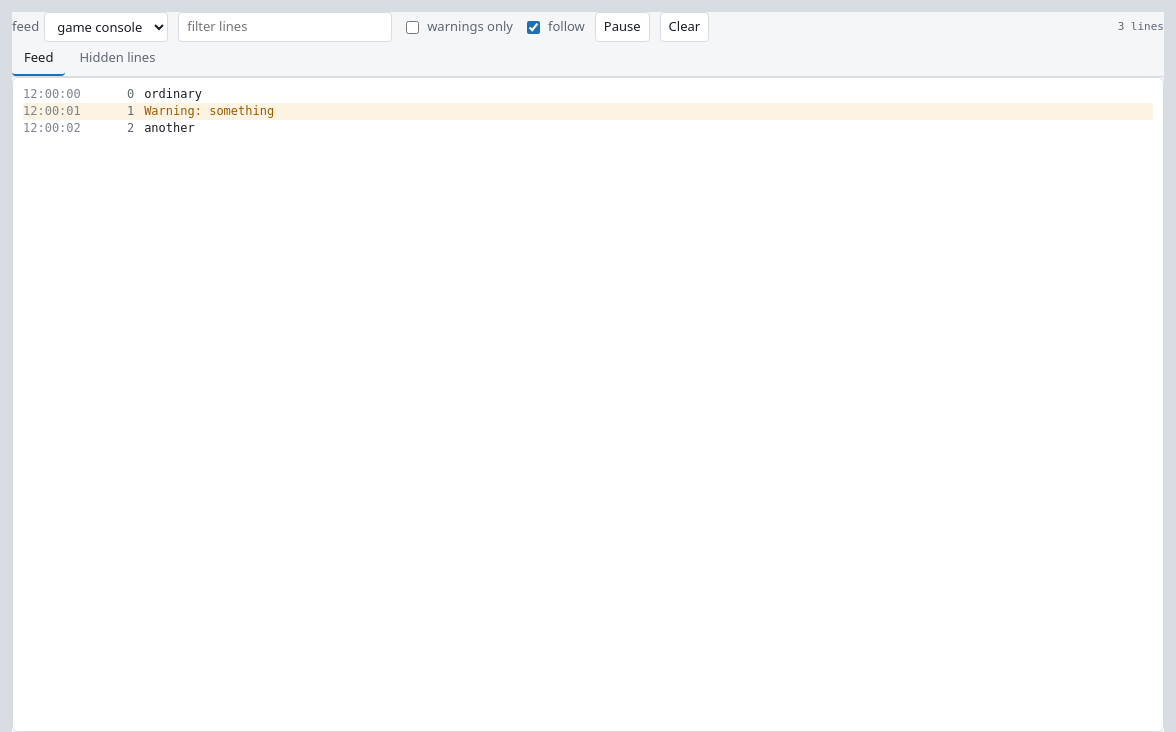
filtering › can show warnings alone
This screenshot has width=1176, height=732.
Click the checkbox labelled "warnings only": (413,27) [406,20,419,34]
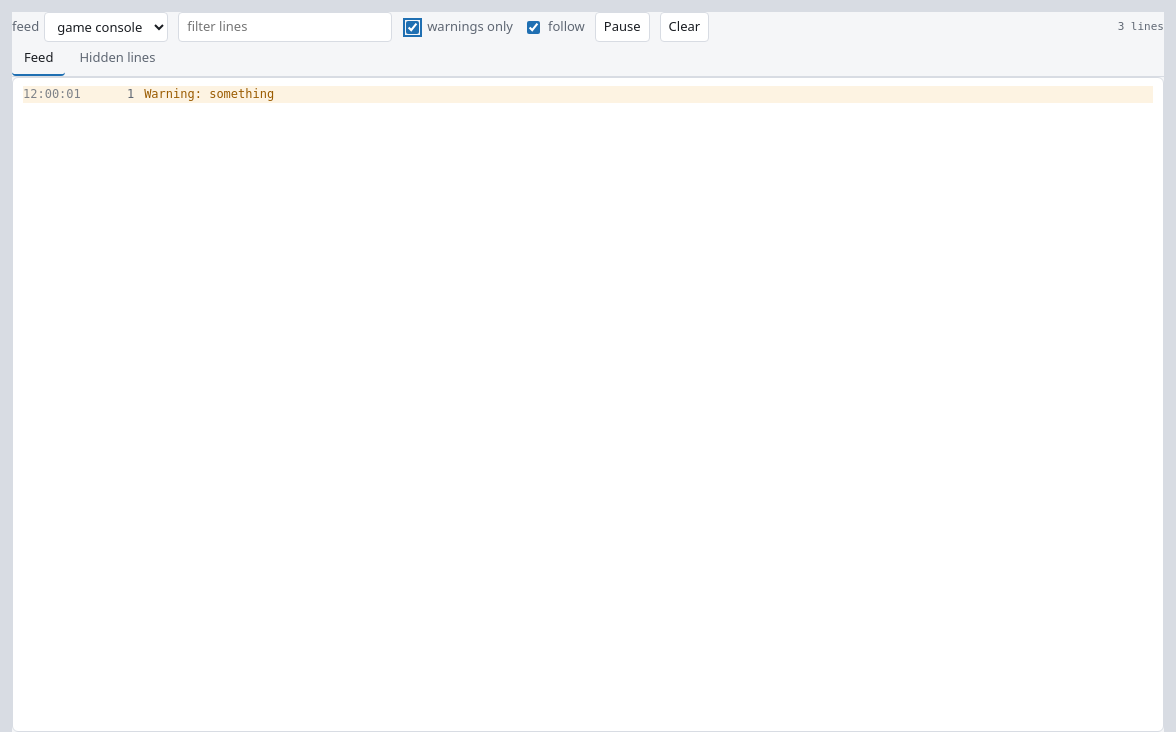
Expected: the text "Warning: something" is shown, [144,86,274,100]
Now the text "ordinary" is gone
